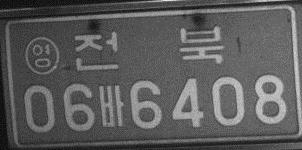0: (211, 75, 244, 126), (22, 84, 55, 132)
4: (171, 77, 204, 128)
6: (128, 79, 161, 129), (63, 83, 94, 131)
8: (254, 73, 286, 125)
바: (98, 84, 124, 128)
영: (23, 36, 59, 75)
전북_D: (73, 25, 225, 71)
